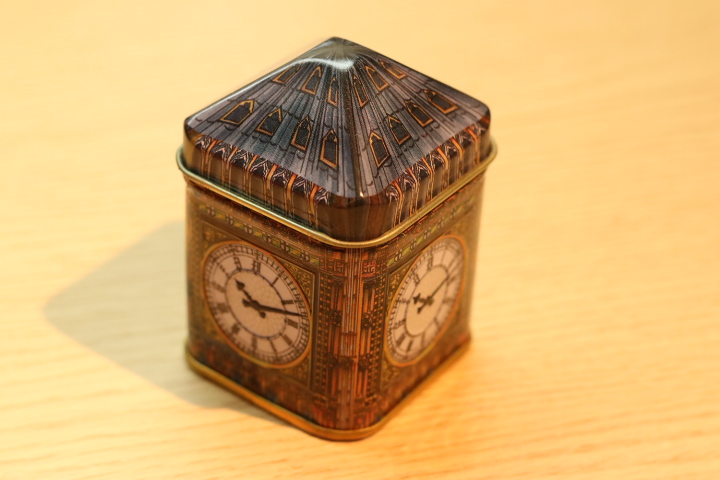Big Ben: (151, 22, 521, 464)
